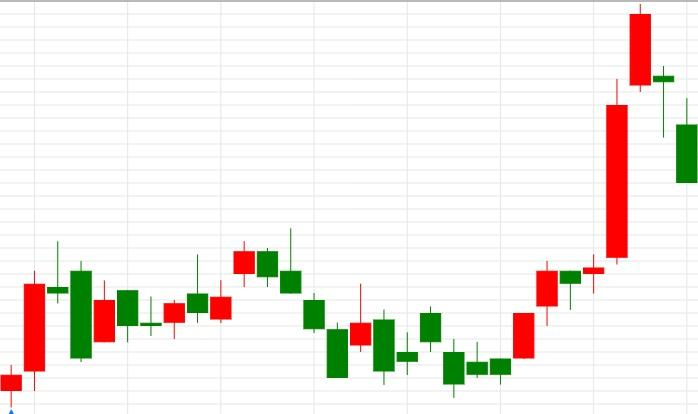three_black_crows_fall: (163, 228, 349, 378)
